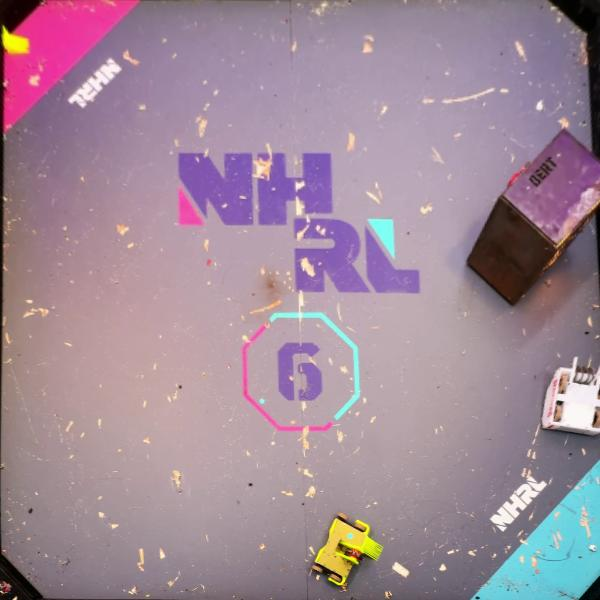housebot: (465, 127, 600, 306)
robot: (310, 511, 383, 587), (542, 357, 600, 439)
